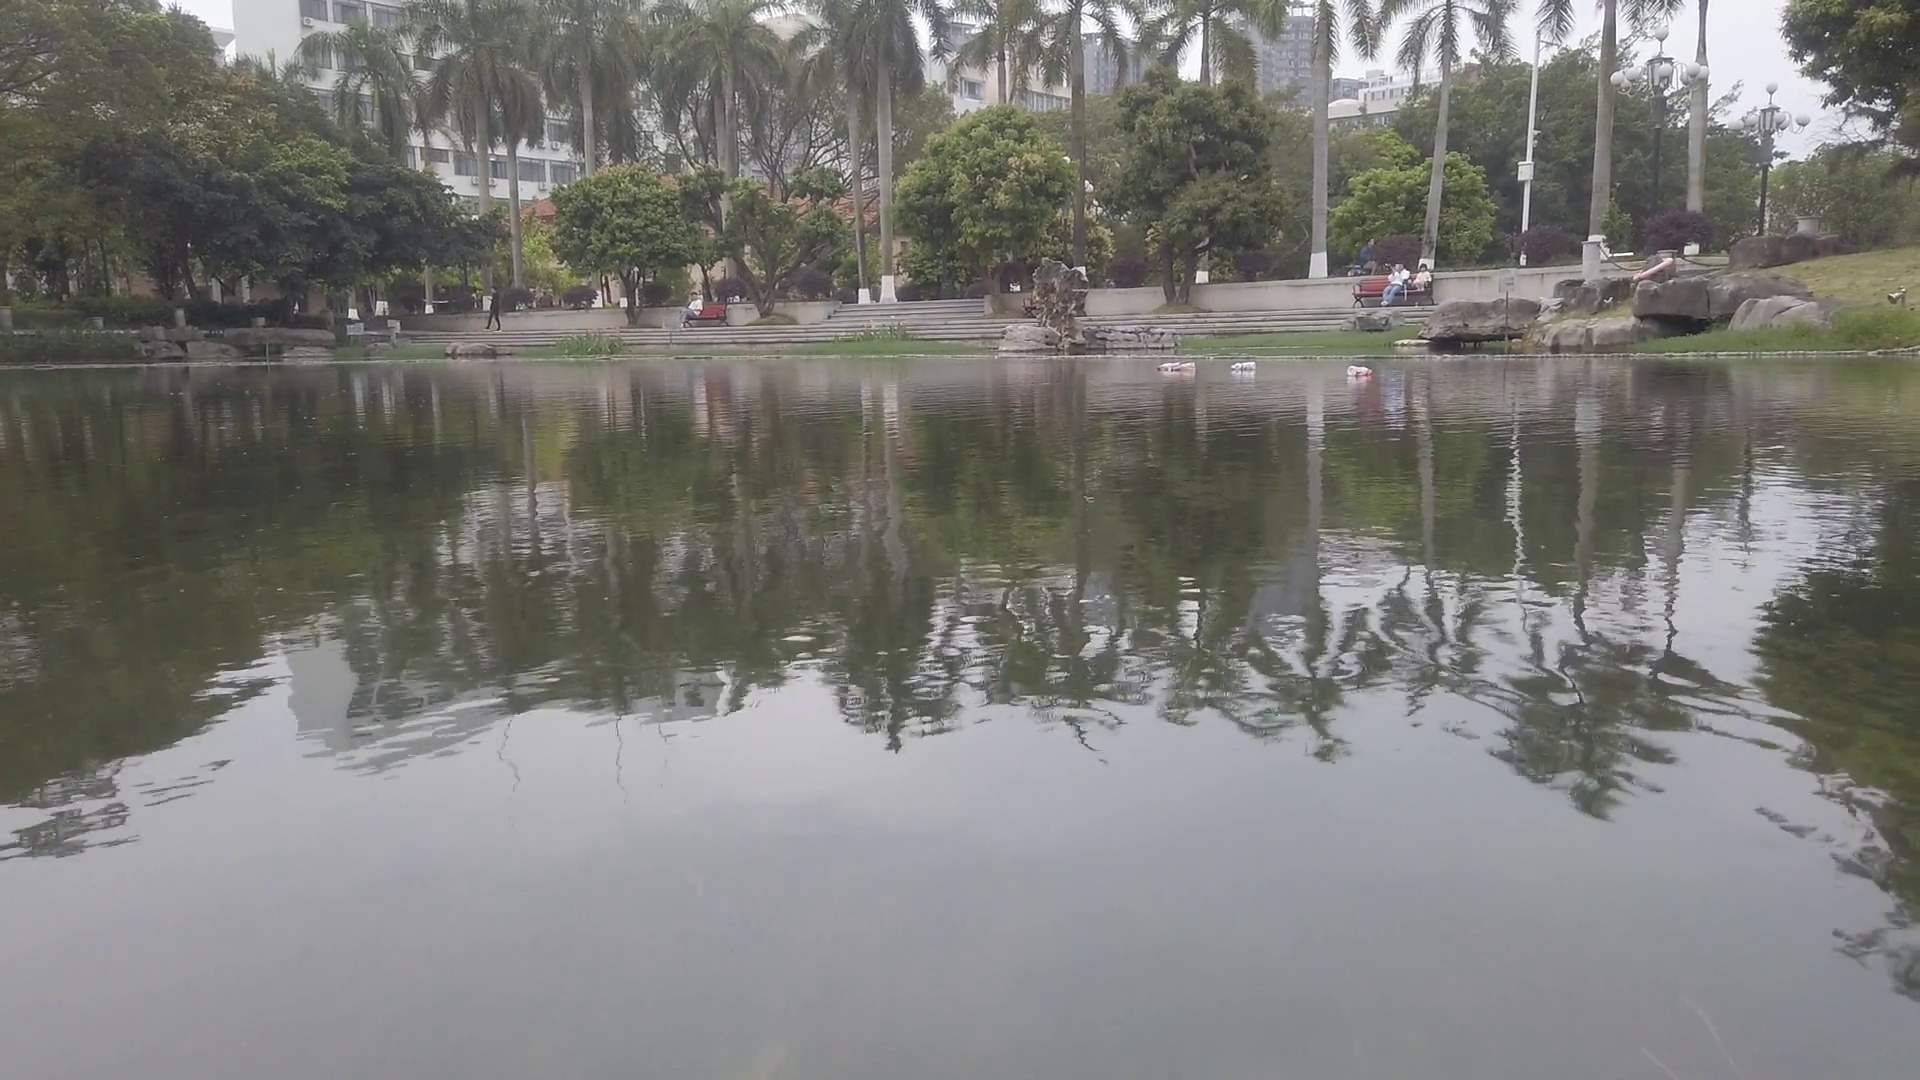bottle: (1346, 364, 1375, 377), (1156, 361, 1182, 371), (1175, 363, 1195, 373), (1230, 363, 1255, 369)
